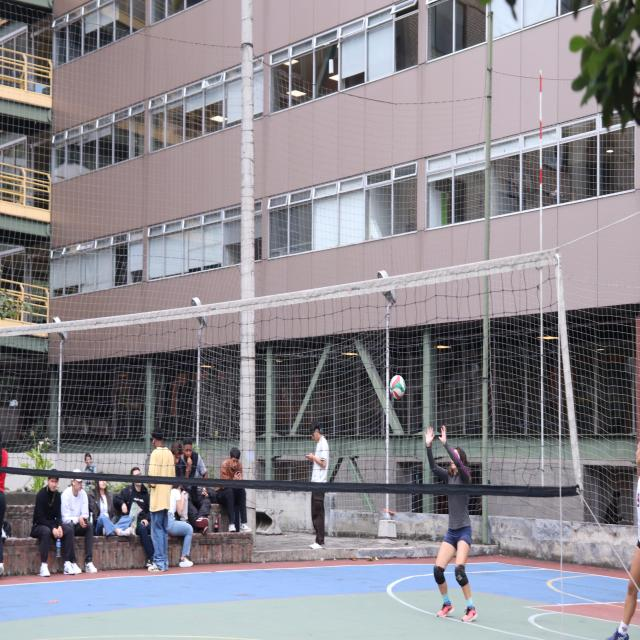volleyball: (390, 374, 406, 398)
